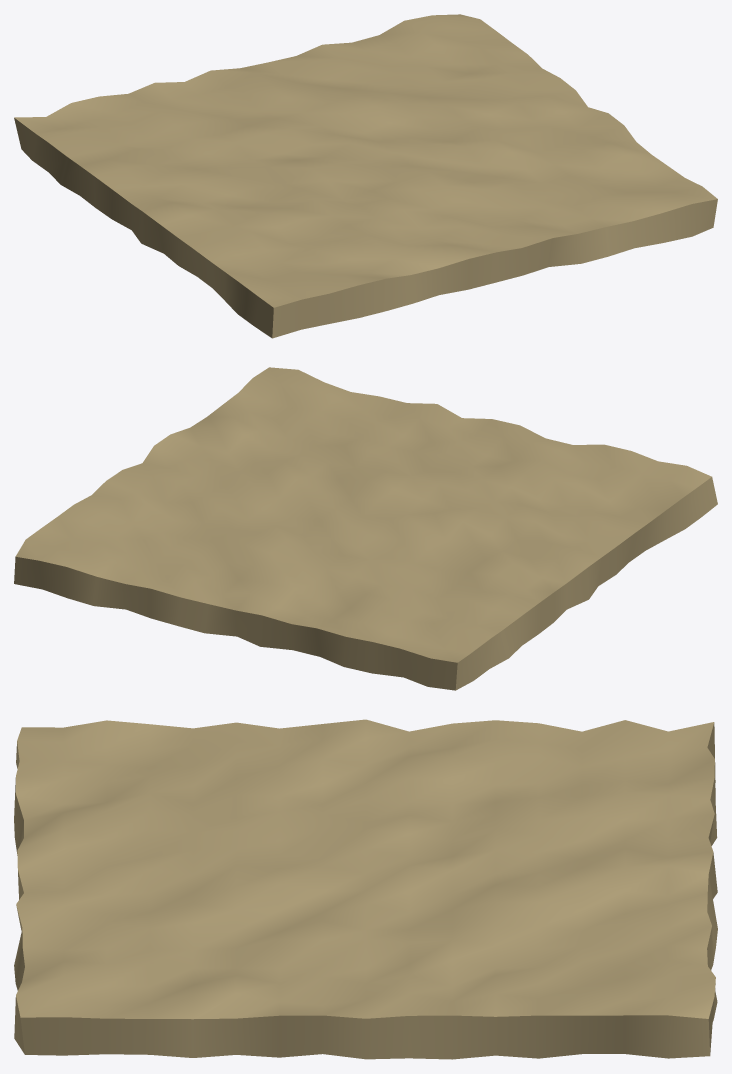
Rendered from ground_modeling.fbx.
3 views of the same model, one above another, from view 1: azimuth 30°, elevation 25°; view 2: azimuth 150°, elevation 25°; view 3: azimuth 270°, elevation 25° (orthographic). The views are drawn at different scales.
Visible parts, largest first — view 1: ground_sandy beach; view 2: ground_sandy beach; view 3: ground_sandy beach.
Part boxes in pixels (<box>): ground_sandy beach: <box>14,14,717,338</box>; ground_sandy beach: <box>14,367,717,690</box>; ground_sandy beach: <box>14,719,717,1059</box>.
Size of the model in its own units: 815 by 57.5 by 815.
